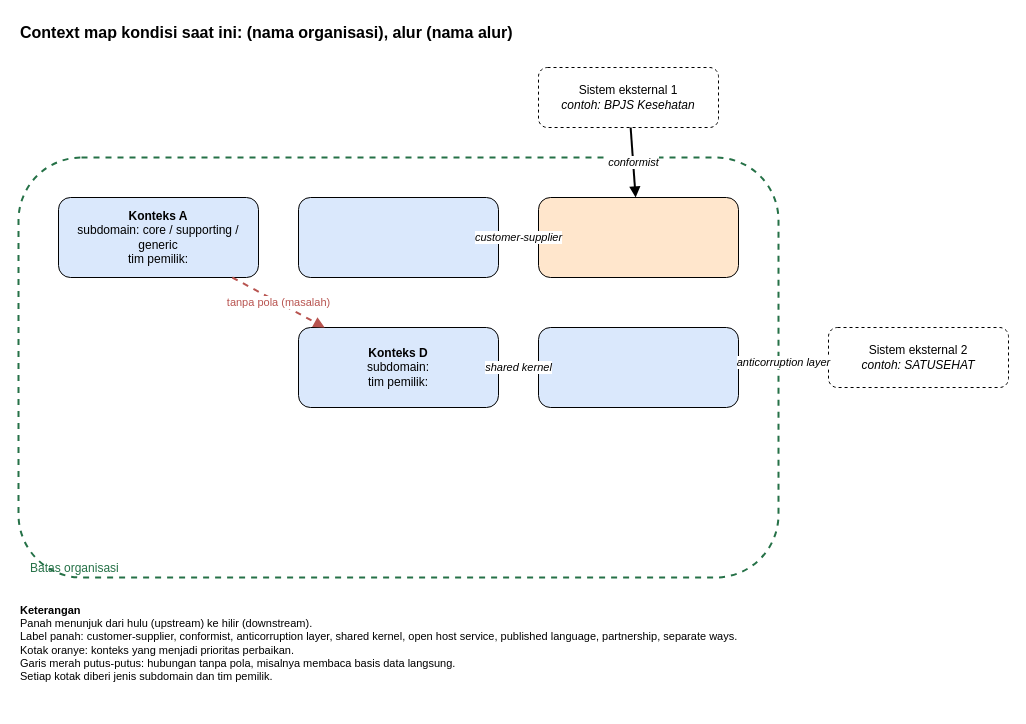
The diagram is 1026 pixels wide and 724 high, and some of its shapes have lost their labels. Each missing label, with the box of its shape:
Konteks B subdomain: tim pemilik:: (298, 196, 498, 278)
Konteks C subdomain: tim pemilik:: (538, 196, 738, 278)
Konteks E subdomain: tim pemilik:: (538, 326, 738, 408)
